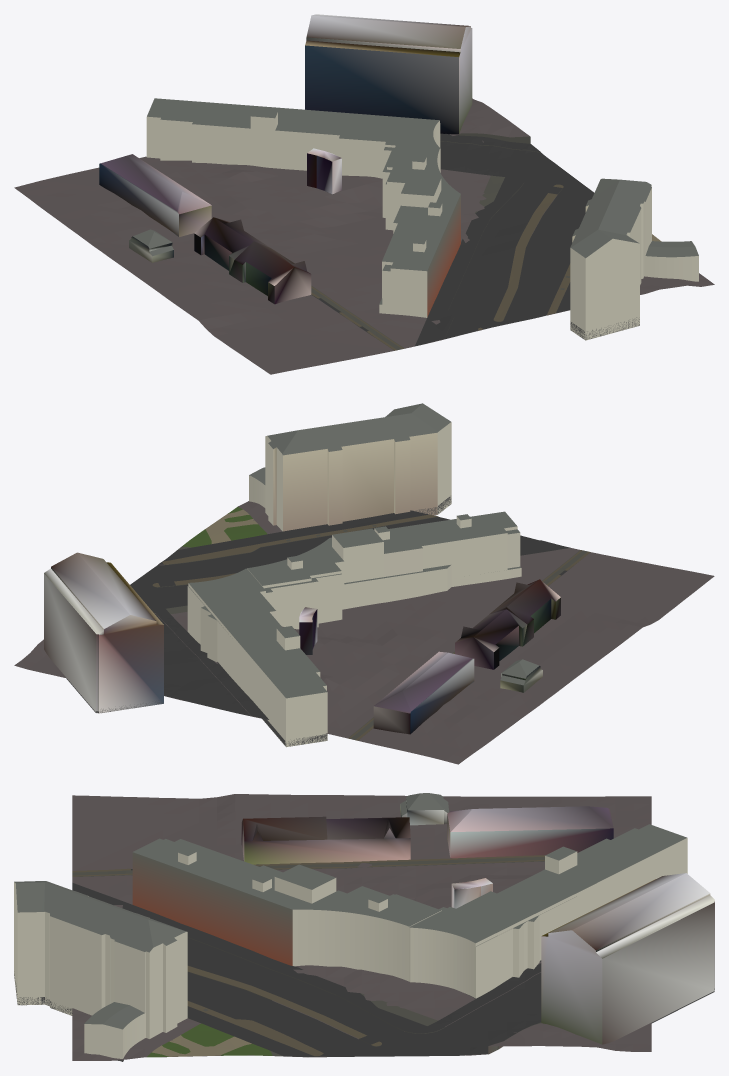
The picture shows the model from 3 angles, top to bottom: view 1: azimuth 30°, elevation 25°; view 2: azimuth 150°, elevation 25°; view 3: azimuth 270°, elevation 25°; orthographic projection. The views are drawn at different scales.
Visible parts, largest first — view 1: c_m03_m18; view 2: c_m03_m18; view 3: c_m03_m18.
Boxes of the visible parts, box(x1,y1,x2,y2) form: c_m03_m18: box(14, 14, 714, 374); c_m03_m18: box(14, 403, 714, 764); c_m03_m18: box(14, 793, 714, 1061).
Bounding box in the file's own units: 128 × 28.49 × 155.
